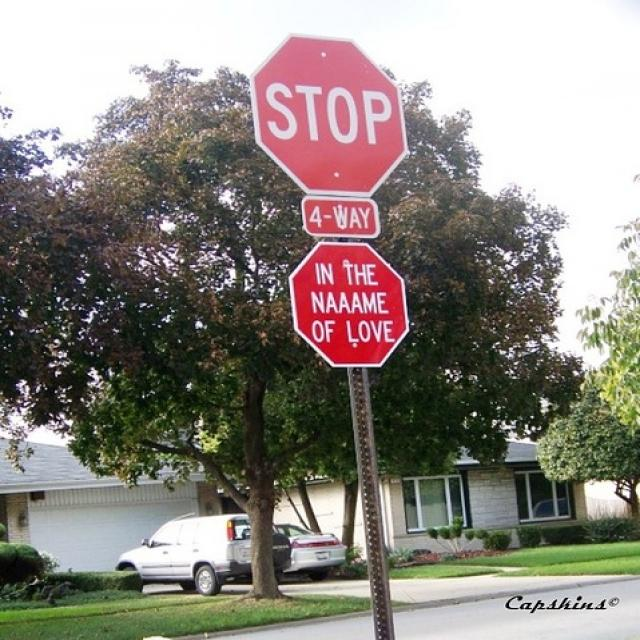car: (112, 511, 292, 595), (274, 521, 347, 581)
pole: (346, 362, 398, 636)
